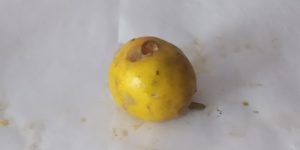BAD: (109, 35, 194, 125)
